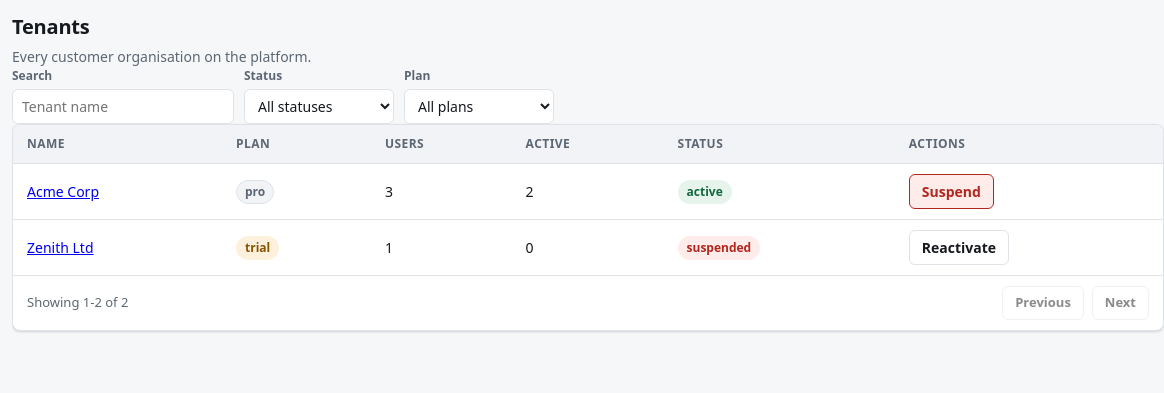
Test: TenantListPage › reports a failed suspend without changing the row
This screenshot has width=1164, height=393.
expect the link "Acme Corp" is shown: met, box [27,182,99,201]
Click the button "Suspend": (951, 192) [909,174,994,209]
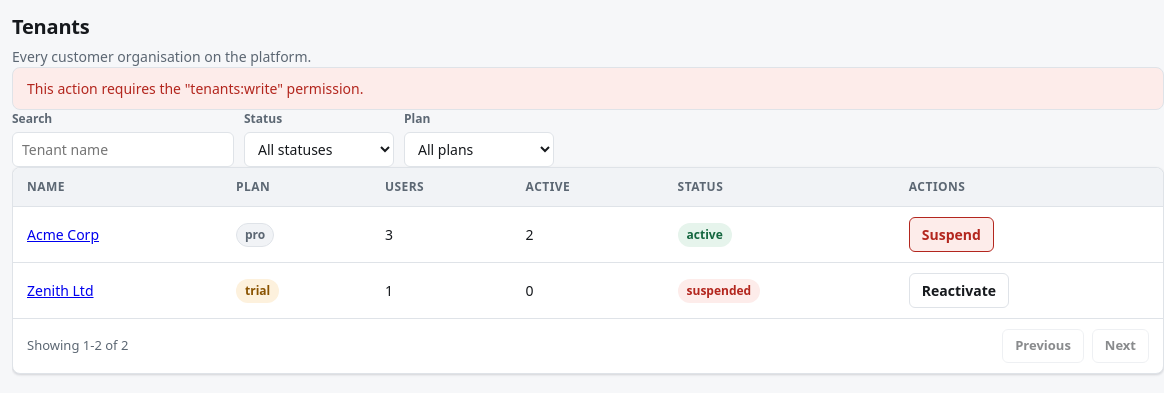
expect the button "Suspend" is shown: met, box [909,217,994,252]
expect the message shows "tenants:write": met, box [27,79,363,98]
